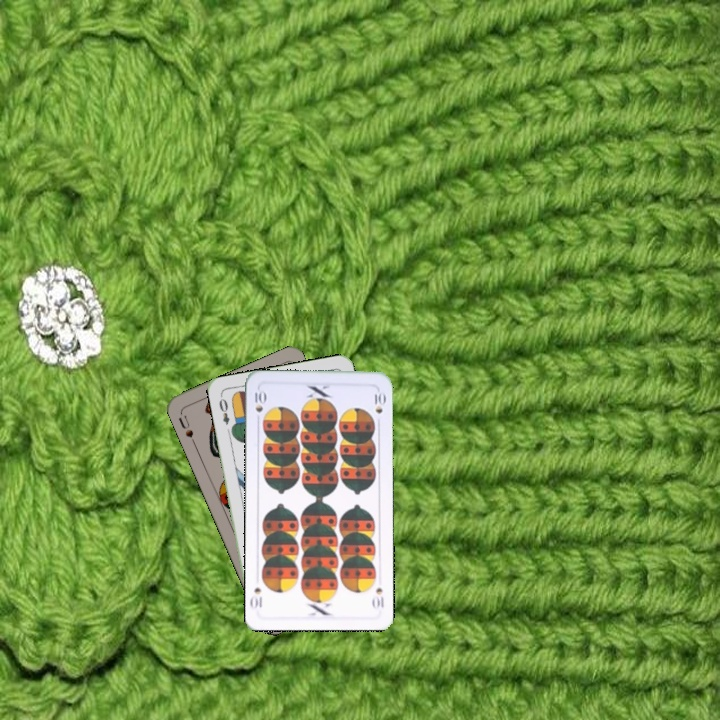EO: (215, 391, 232, 427)
S10: (250, 385, 267, 425), (369, 584, 386, 611)
SU: (174, 411, 198, 447)
